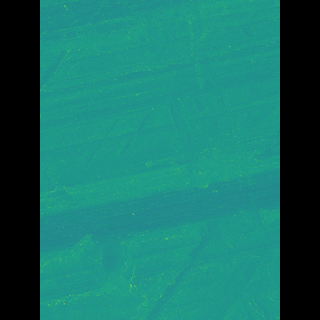Loch: (141, 0, 250, 320), (70, 228, 144, 320)
